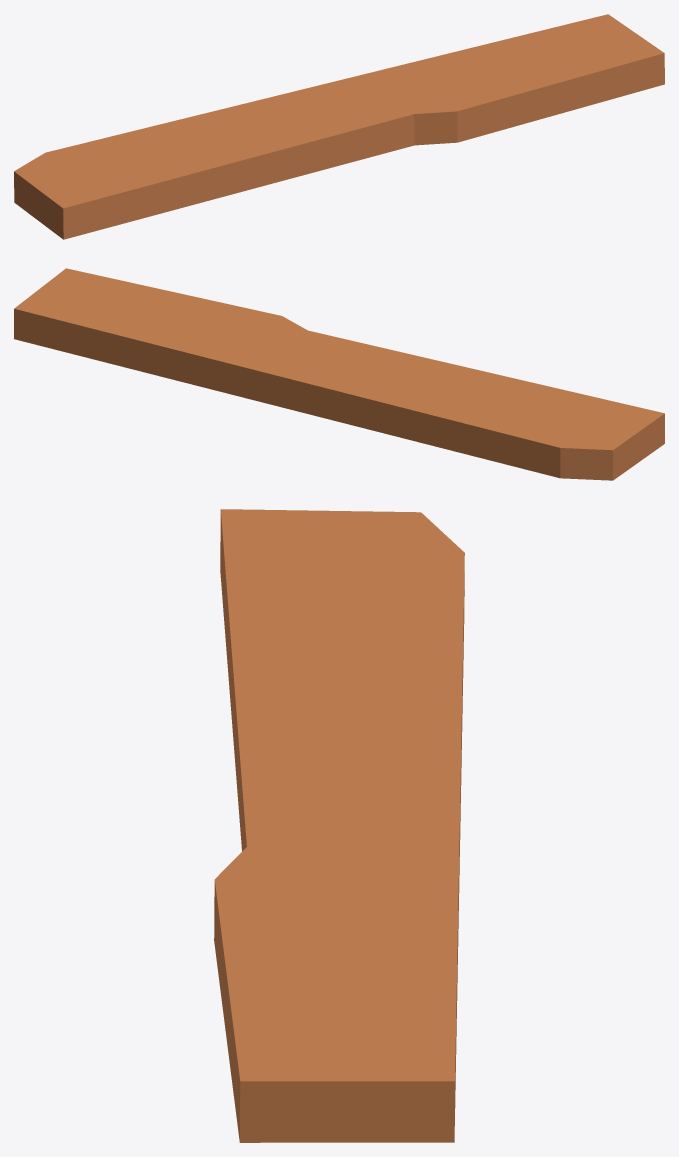
The model's file is wood_plank_01.fbx.
3 renders of one model, top to bottom at view 1: azimuth 30°, elevation 25°; view 2: azimuth 150°, elevation 25°; view 3: azimuth 270°, elevation 25°, orthographic. The views are drawn at different scales.
Visible parts, largest first — view 1: wood_plank_01; view 2: wood_plank_01; view 3: wood_plank_01.
Boxes of the visible parts, x1,y1,x2,y2 form: wood_plank_01: (14,14,664,239); wood_plank_01: (14,268,664,480); wood_plank_01: (214,509,464,1142).
Bounding box in the file's own units: 196 × 11.01 × 35.78.
1 material, 1 textured.
